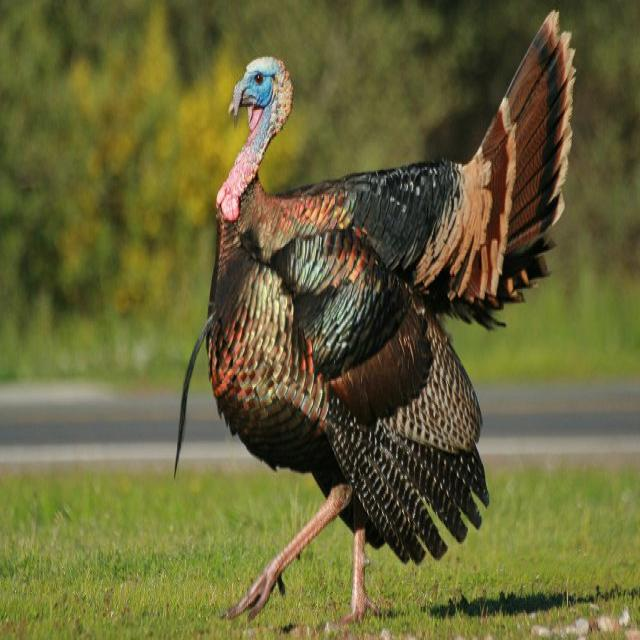turkey: (176, 11, 575, 617)
